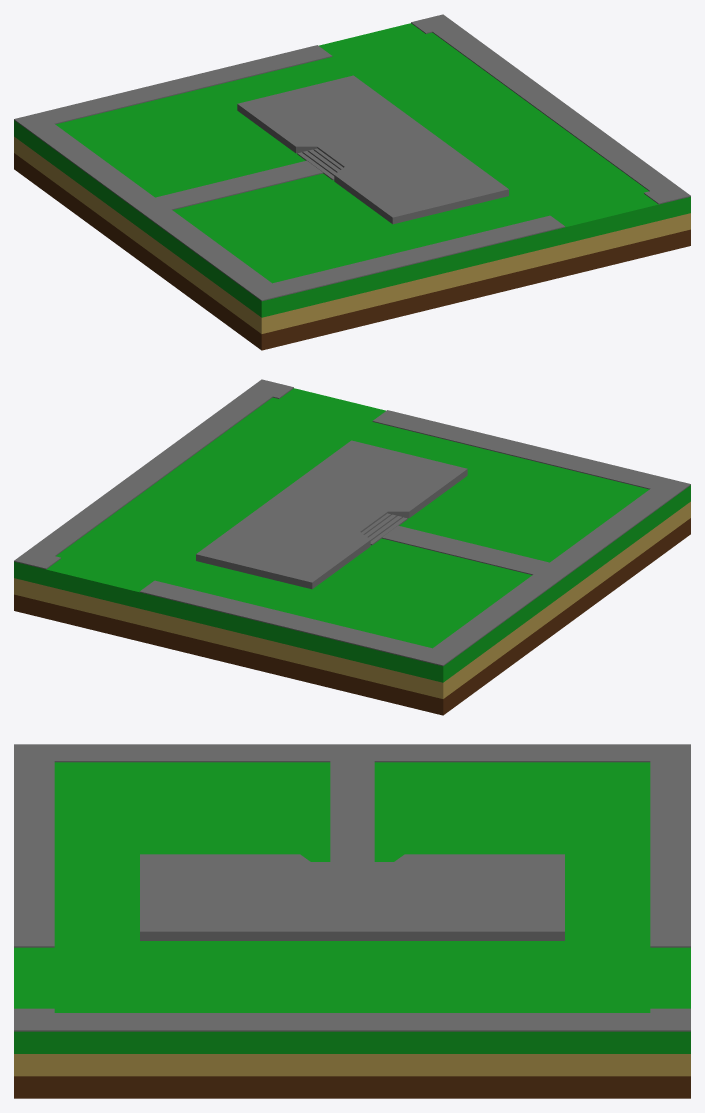
File: CajicaColisiones.glb
3 views of the same model, one above another, from view 1: azimuth 30°, elevation 25°; view 2: azimuth 150°, elevation 25°; view 3: azimuth 270°, elevation 25° (orthographic). The views are drawn at different scales.
Visible parts, largest first — view 1: Plane.005, Plane.004, Cube.309; view 2: Plane.005, Plane.004, Cube.309; view 3: Plane.005, Plane.004, Cube.309.
Boxes of the visible parts, x1,y1,x2,y2 form: Plane.005: [14, 23, 690, 350]; Plane.004: [14, 14, 690, 301]; Cube.309: [237, 75, 508, 224]; Plane.005: [14, 388, 690, 715]; Plane.004: [14, 379, 690, 666]; Cube.309: [196, 440, 467, 589]; Plane.005: [14, 762, 690, 1098]; Plane.004: [14, 744, 690, 1031]; Cube.309: [140, 854, 564, 940].
Size of what is drawn, in the model's own units: 33.35 by 4.16 by 33.35.
